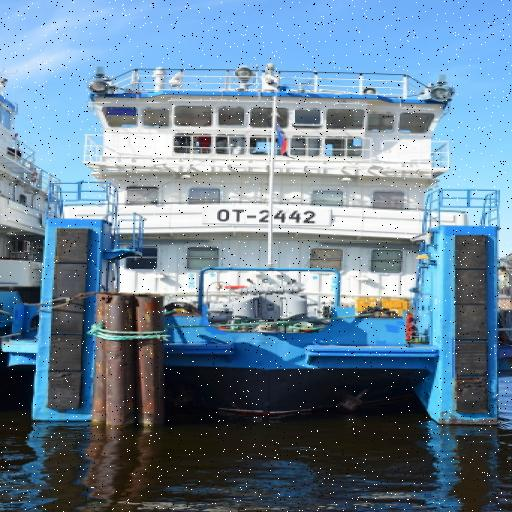tugboat: (29, 56, 512, 439)
